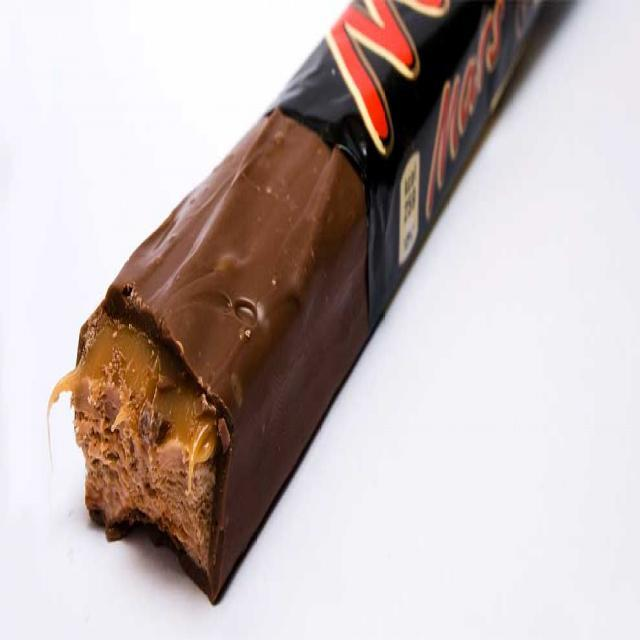Chocolate bar packaged: (60, 99, 380, 640)
